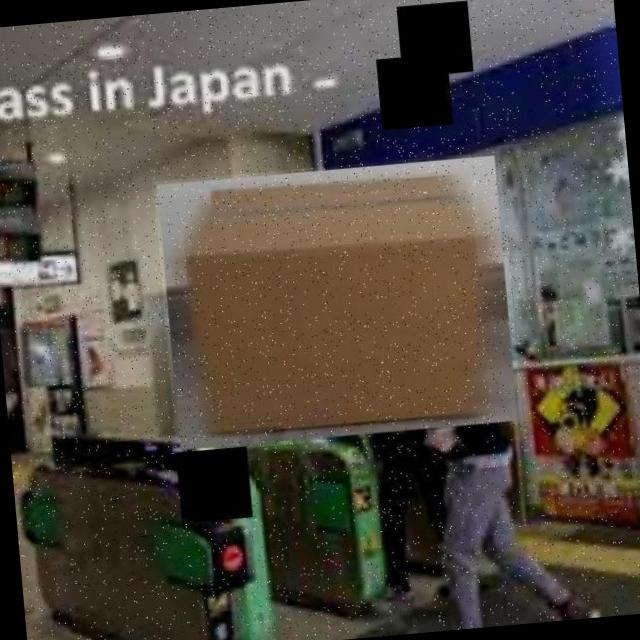box: (152, 152, 523, 454)
